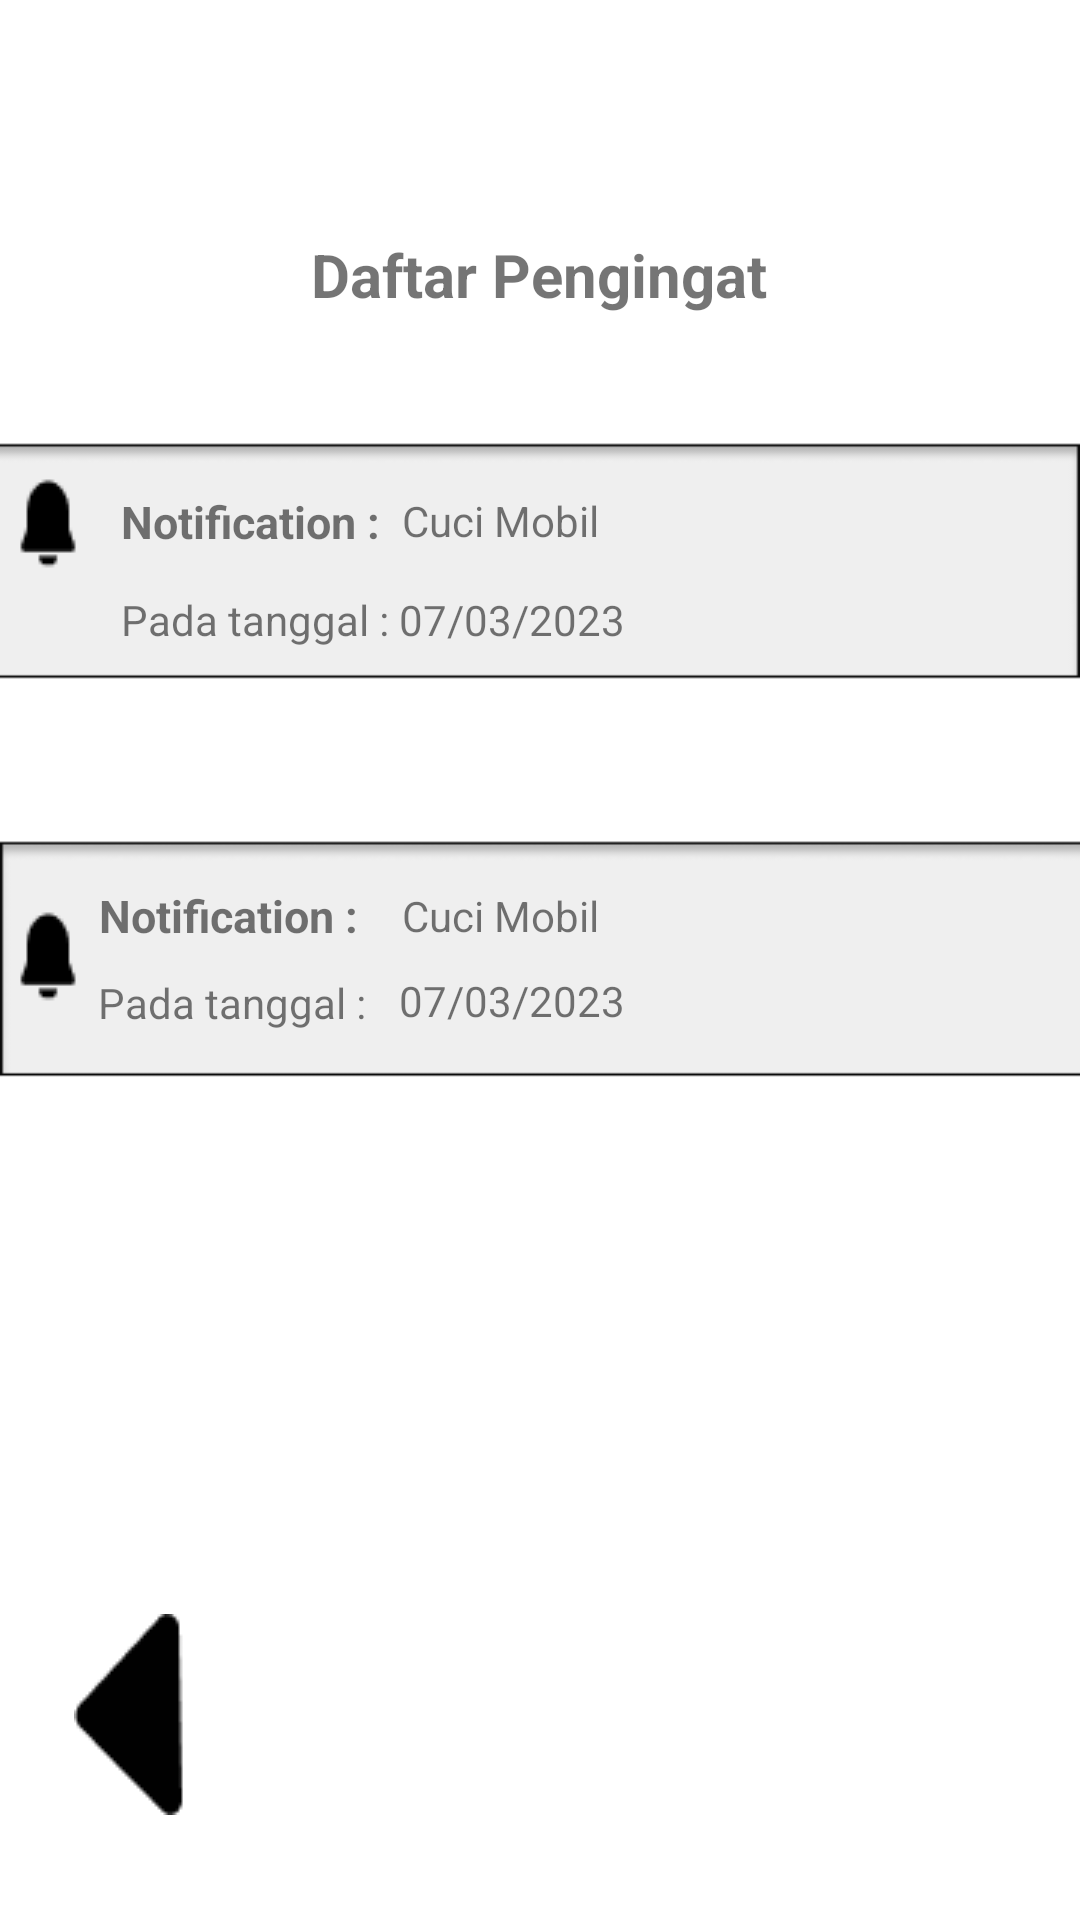

Screen size 1080x1920. Icon name, then its box in pixels as box(x1, y1, x2, y2):
kiri: box(74, 1614, 183, 1815)
pengingatt: box(20, 479, 76, 567), box(20, 912, 76, 1000)
